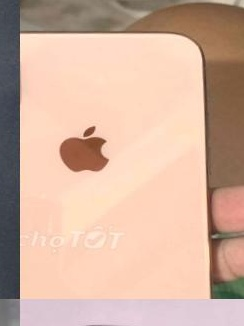physical_damage: (20, 69, 26, 94)
